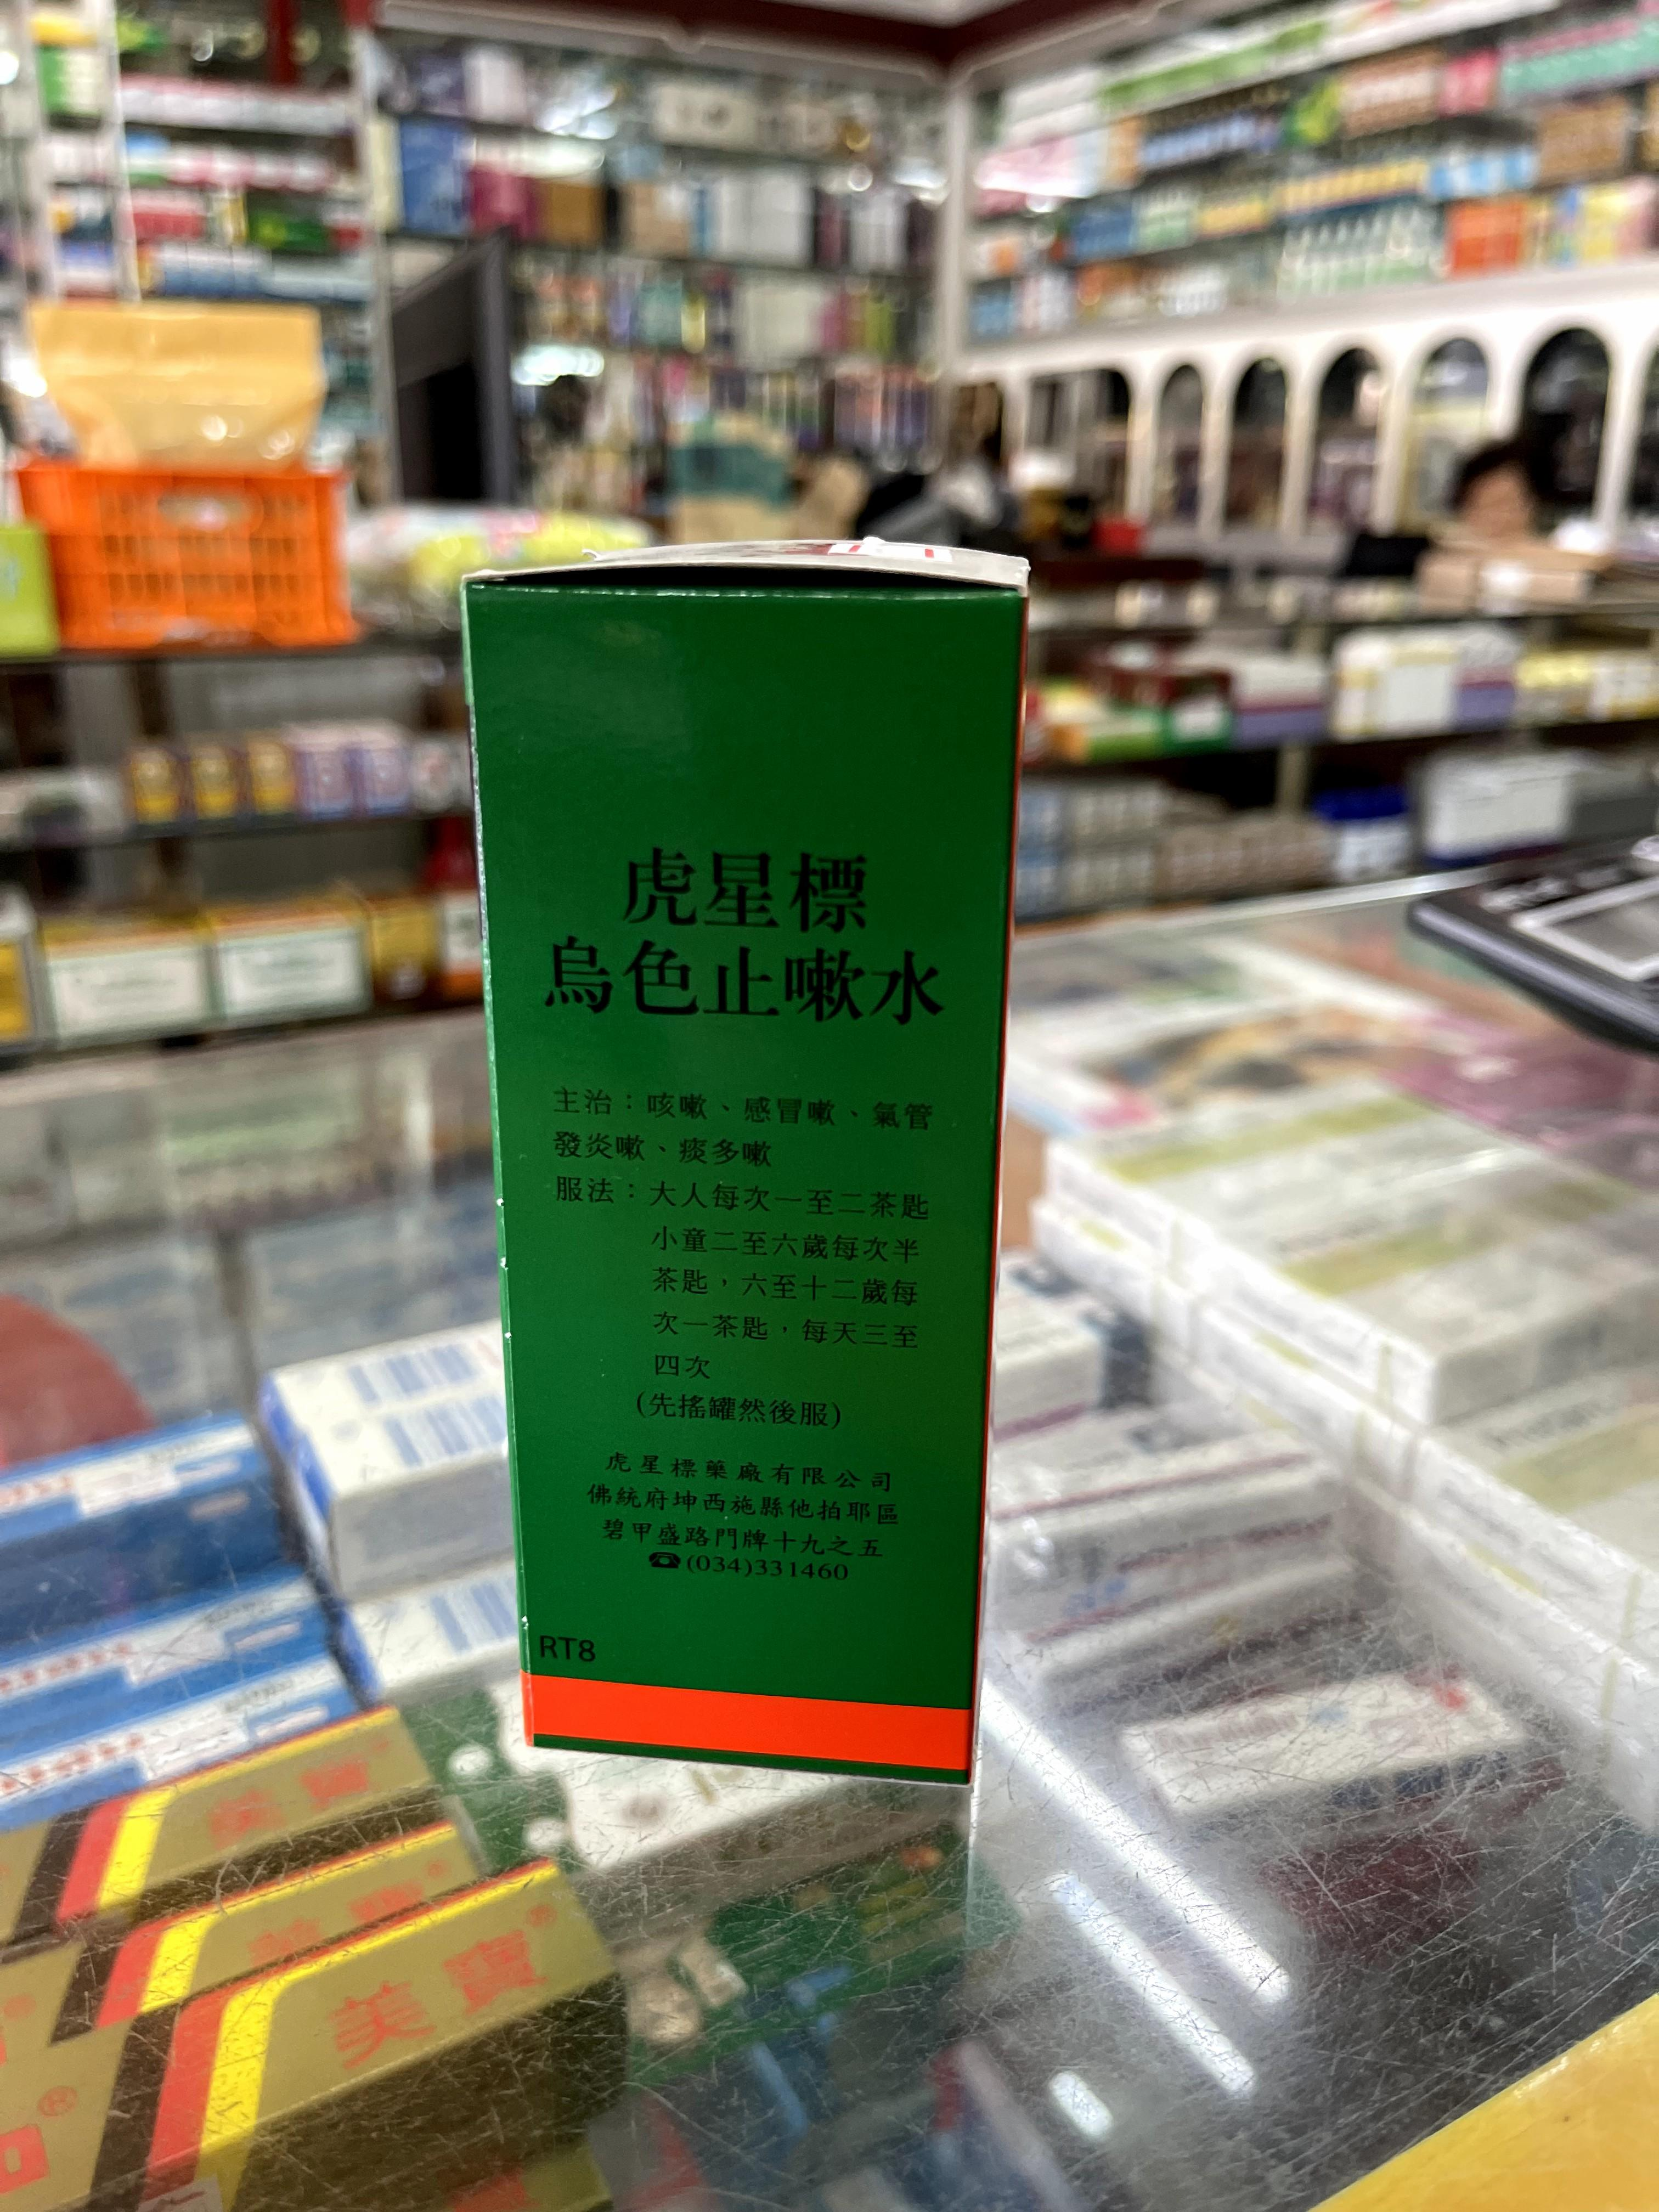Black-Tiger_Big: (467, 543, 1028, 1778)
